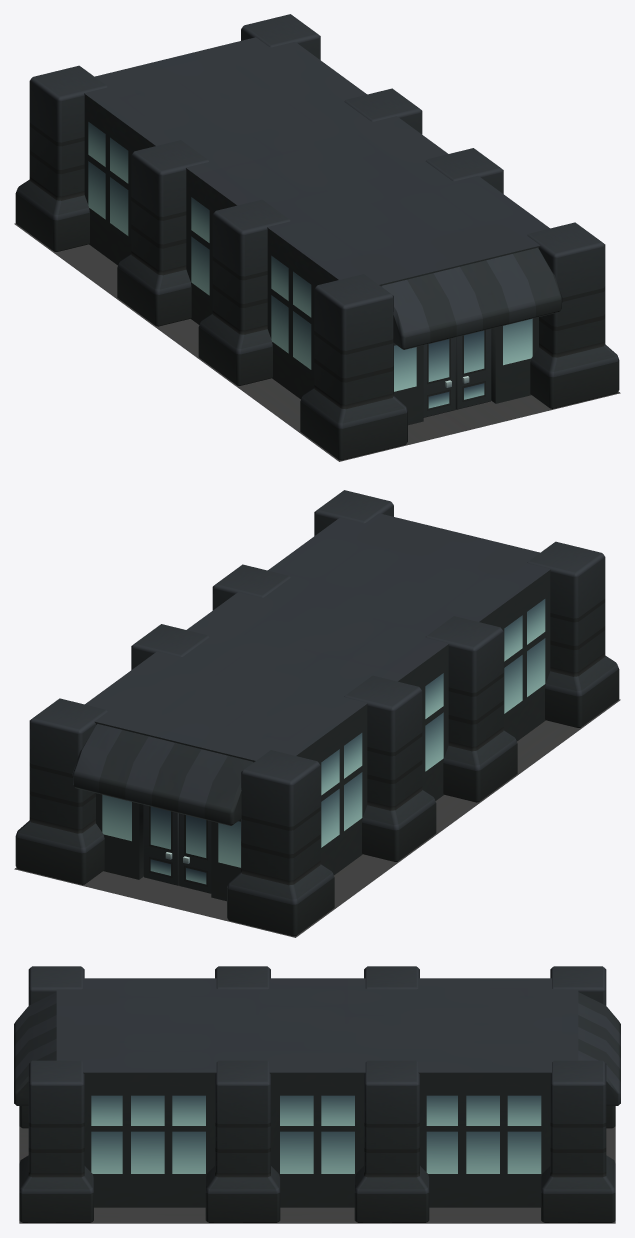
File: office_building_type2_ground_floor_cream.fbx
The picture shows the model from 3 angles, top to bottom: view 1: azimuth 30°, elevation 25°; view 2: azimuth 150°, elevation 25°; view 3: azimuth 270°, elevation 25°; orthographic projection. The views are drawn at different scales.
Visible parts, largest first — view 1: office_building_type2_ground_floor_cream, door_front_office2_right, door_front_office2_left; view 2: office_building_type2_ground_floor_cream, door_back_office2_left, door_back_office2_right; view 3: office_building_type2_ground_floor_cream.
Part boxes in pixels (x1,y1,x2,y2): office_building_type2_ground_floor_cream: (14,14,620,461); door_front_office2_right: (456,328,491,409); door_front_office2_left: (423,337,455,417); office_building_type2_ground_floor_cream: (14,490,620,937); door_back_office2_left: (143,804,178,885); door_back_office2_right: (179,813,211,893); office_building_type2_ground_floor_cream: (14,966,620,1223).
Bounding box in the file's own units: 800 × 409 × 1629.
